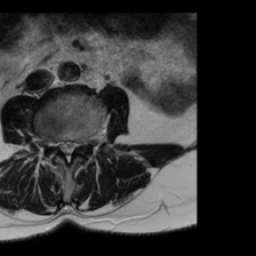CCS_normal: (64, 134, 72, 167)
LFS_severe_stenosis: (79, 135, 88, 153)
LLS_severe_stenosis: (72, 135, 79, 158)
RFS_stenosis: (49, 132, 57, 155)
RLS_stenosis: (57, 135, 64, 155)
